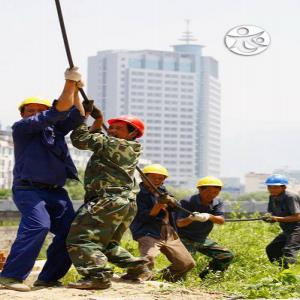blue: (264, 175, 291, 199)
red: (106, 114, 146, 143)
yellow: (18, 96, 52, 120), (140, 165, 169, 189), (197, 178, 225, 202)
